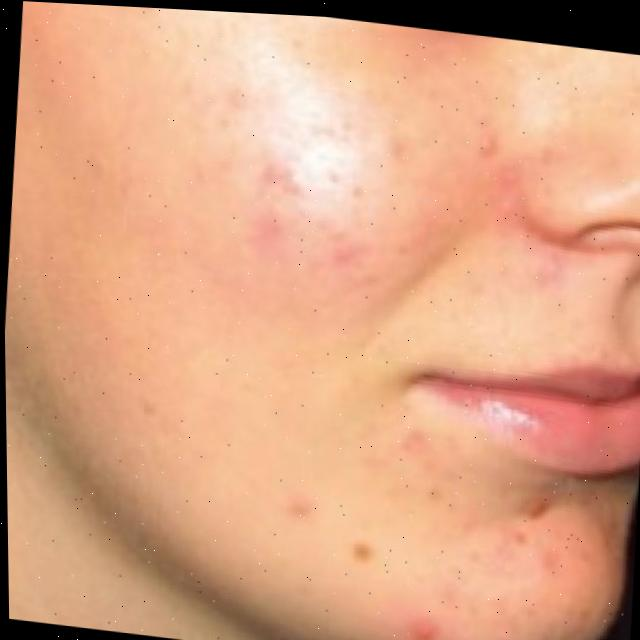Acne: (253, 13, 551, 640)
